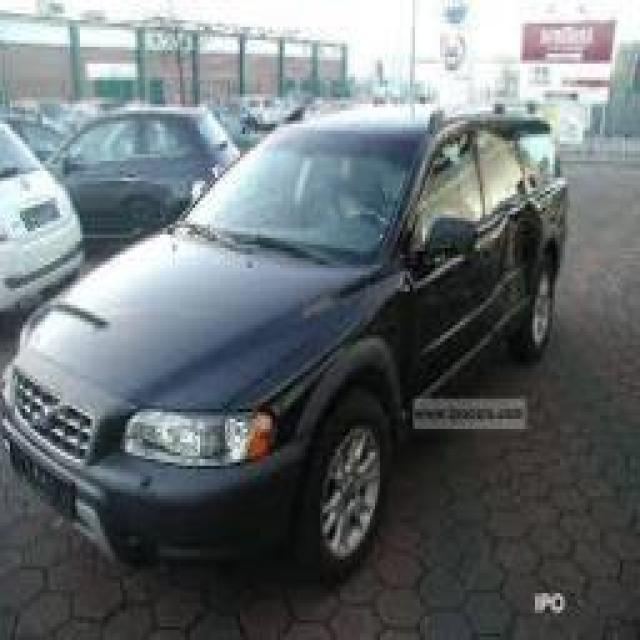replaceable: (484, 210, 542, 343)
